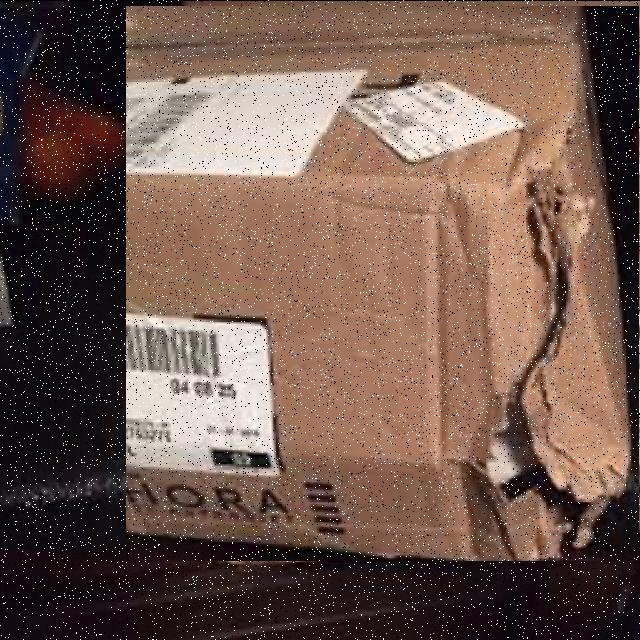defect: (126, 5, 639, 560)
